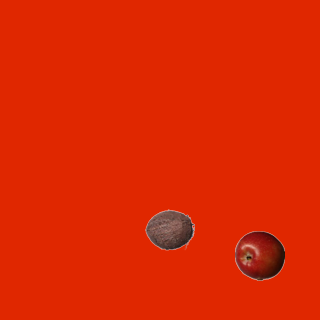Apple Braeburn: (234, 230, 284, 280)
Cocos: (144, 204, 194, 254)
